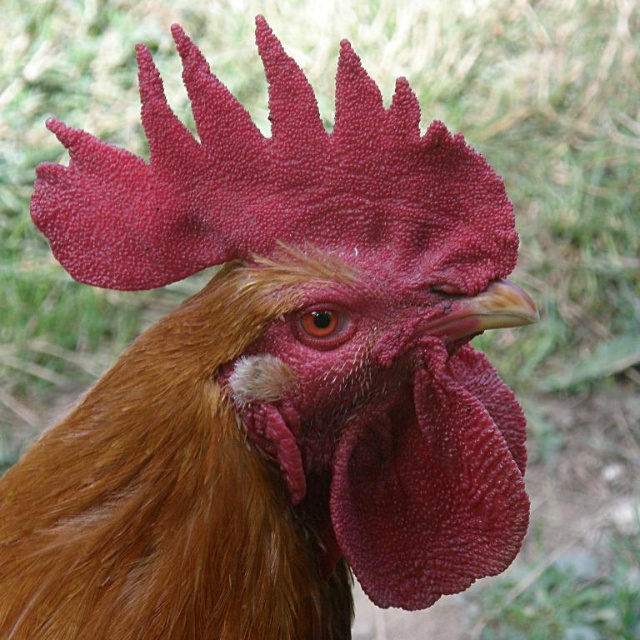Chicken: (0, 22, 580, 640)
